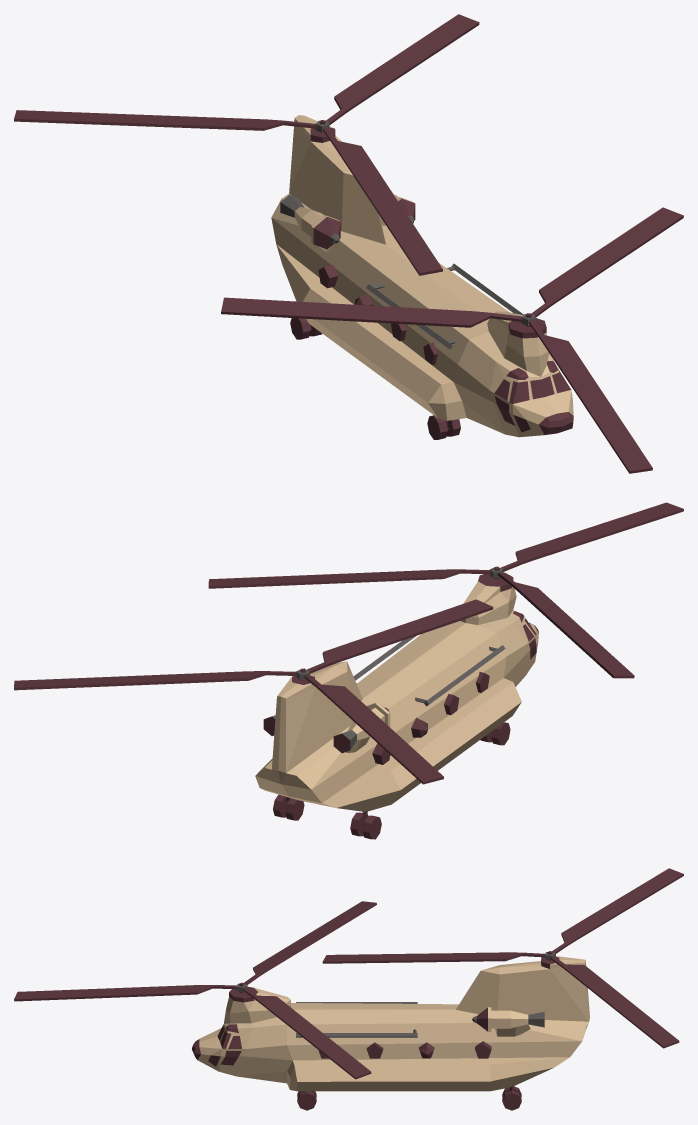
The model's file is SM_Helicopter_A_Military.fbx.
3 renders of one model, top to bottom at view 1: azimuth 30°, elevation 25°; view 2: azimuth 150°, elevation 25°; view 3: azimuth 270°, elevation 25°, orthographic. The views are drawn at different scales.
Parts seen in each view (by area): view 1: SM_Helicopter_A_Military_Base, SM_Helicopter_A_Military_Propeller_Front, SM_Helicopter_A_Military_Propeller_Back; view 2: SM_Helicopter_A_Military_Base, SM_Helicopter_A_Military_Propeller_Back, SM_Helicopter_A_Military_Propeller_Front, SM_Helicopter_A_Military_Wheel_BR, SM_Helicopter_A_Military_Wheel_BL; view 3: SM_Helicopter_A_Military_Base, SM_Helicopter_A_Military_Propeller_Back, SM_Helicopter_A_Military_Propeller_Front, SM_Helicopter_A_Military_Wheel_BL.
Boxes of the visible parts, x1,y1,x2,y2 form: SM_Helicopter_A_Military_Base: (271,115,573,437); SM_Helicopter_A_Military_Propeller_Front: (221,207,683,473); SM_Helicopter_A_Military_Propeller_Back: (14,14,479,275); SM_Helicopter_A_Military_Base: (255,566,538,829); SM_Helicopter_A_Military_Propeller_Back: (14,599,493,784); SM_Helicopter_A_Military_Propeller_Front: (208,502,683,678); SM_Helicopter_A_Military_Wheel_BR: (350,812,381,839); SM_Helicopter_A_Military_Wheel_BL: (273,794,304,820); SM_Helicopter_A_Military_Base: (192,951,589,1091); SM_Helicopter_A_Military_Propeller_Back: (322,868,683,1048); SM_Helicopter_A_Military_Propeller_Front: (14,901,376,1079); SM_Helicopter_A_Military_Wheel_BL: (502,1086,521,1110).
Bounding box in the file's own units: 15.55 × 6.03 × 26.13.
